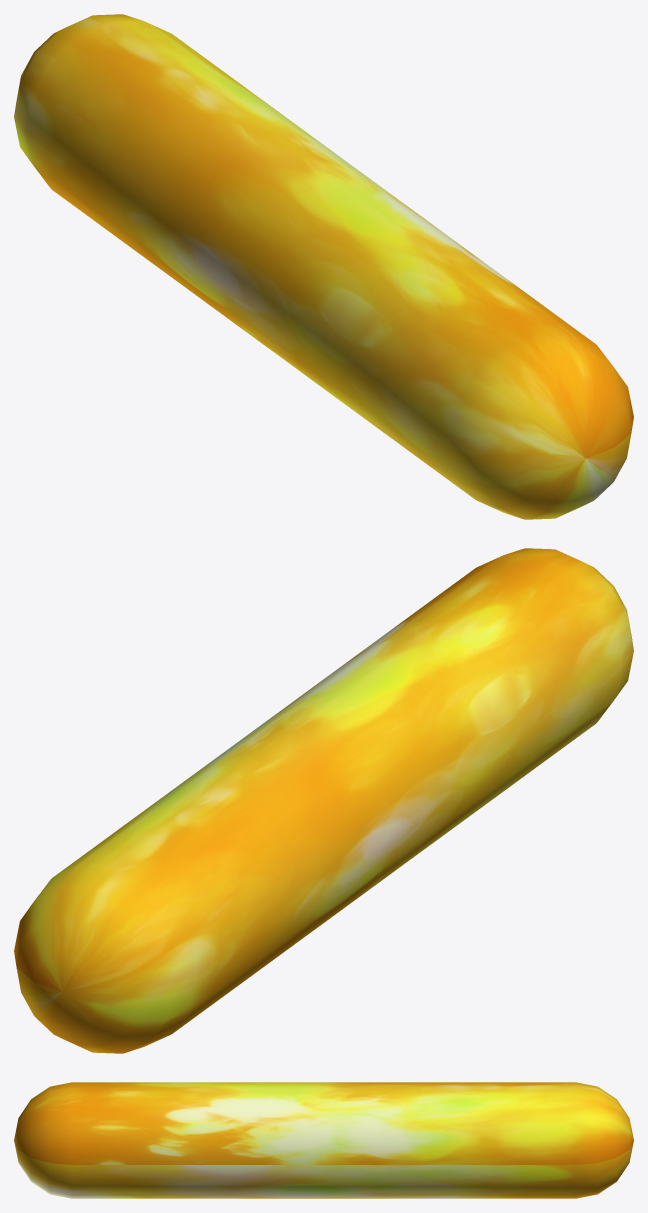
Rendered from laser.fbx.
3 views of the same model, one above another, from view 1: azimuth 30°, elevation 25°; view 2: azimuth 150°, elevation 25°; view 3: azimuth 270°, elevation 25° (orthographic). The views are drawn at different scales.
Visible parts, largest first — view 1: Capsule; view 2: Capsule; view 3: Capsule.
Part boxes in pixels (x1,y1,x2,y2): Capsule: (14, 14, 633, 519); Capsule: (14, 548, 633, 1053); Capsule: (14, 1082, 633, 1198).
Size of the model in its own units: 22.47 by 22.47 by 119.
Materials: 1 (1 with a texture image).
